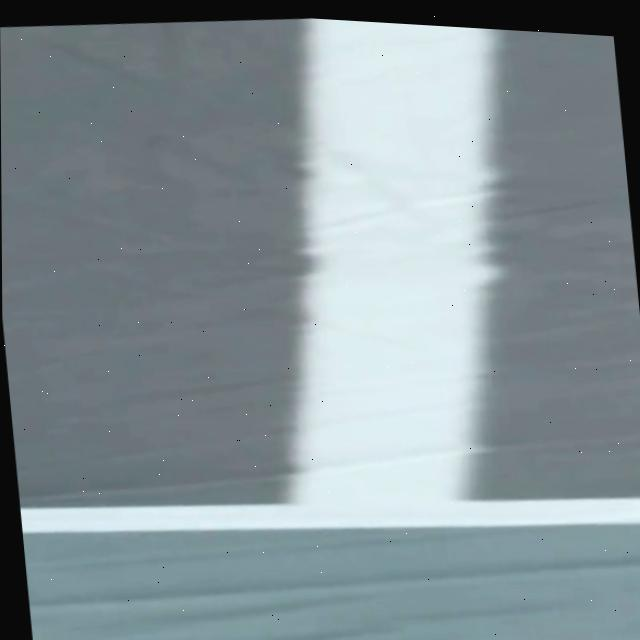left: (19, 498, 640, 534)
